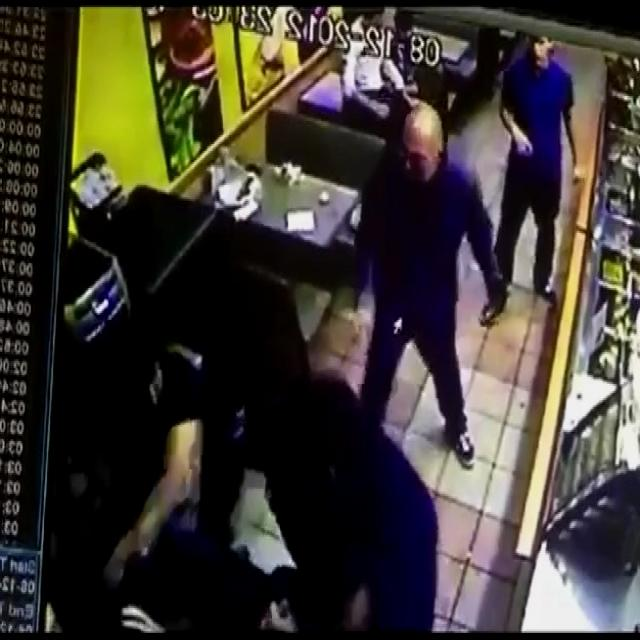fight: (119, 268, 264, 640)
